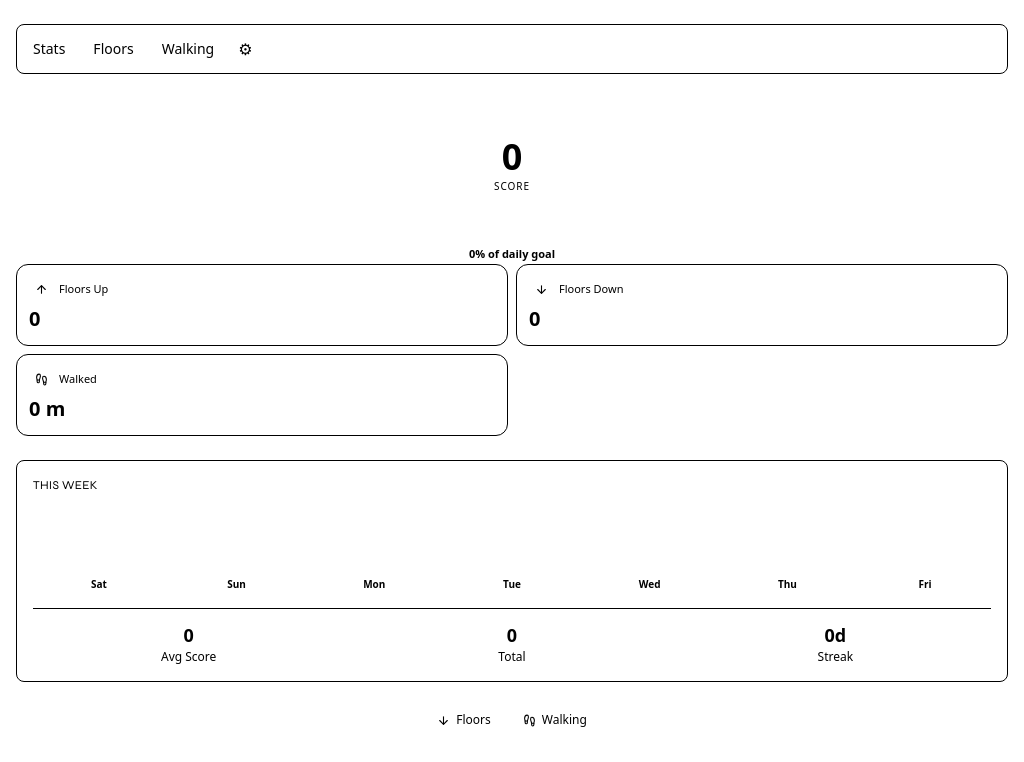
Scenario: BodyPage — reconfigure › clicking gear button shows the config form
The width and height of the screenshot is (1024, 762).
Click the button "⚙" at (245, 49), box [230, 29, 260, 69]
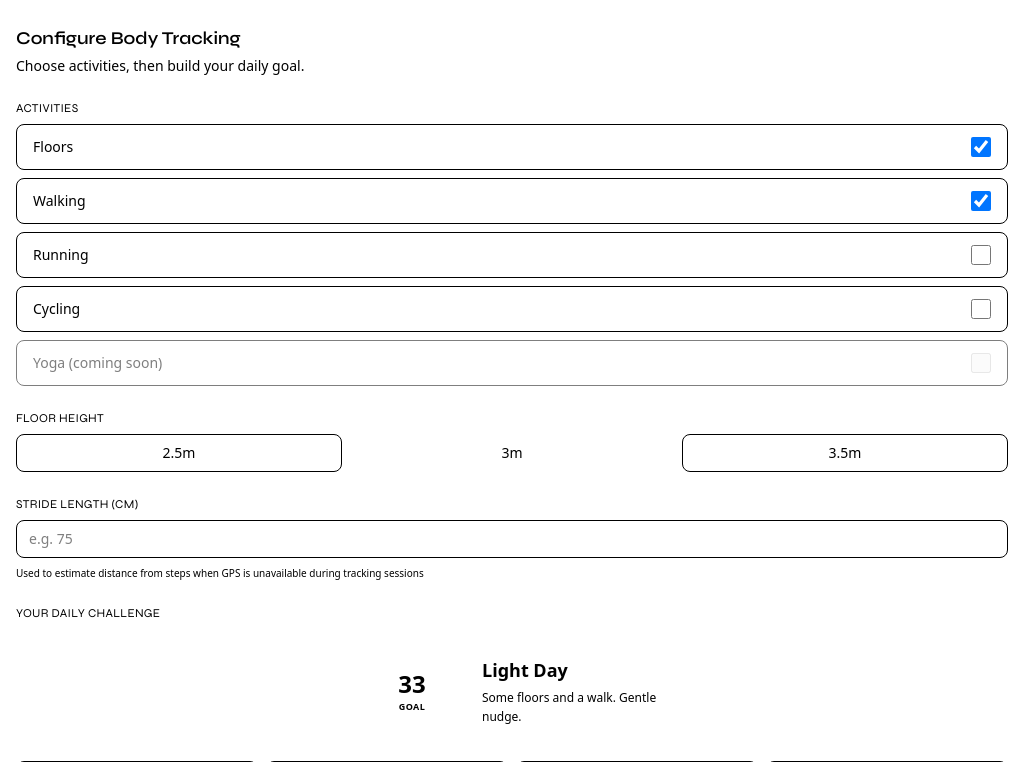
Expected: the heading "Configure Body Tracking" is shown, [16, 27, 241, 49]
